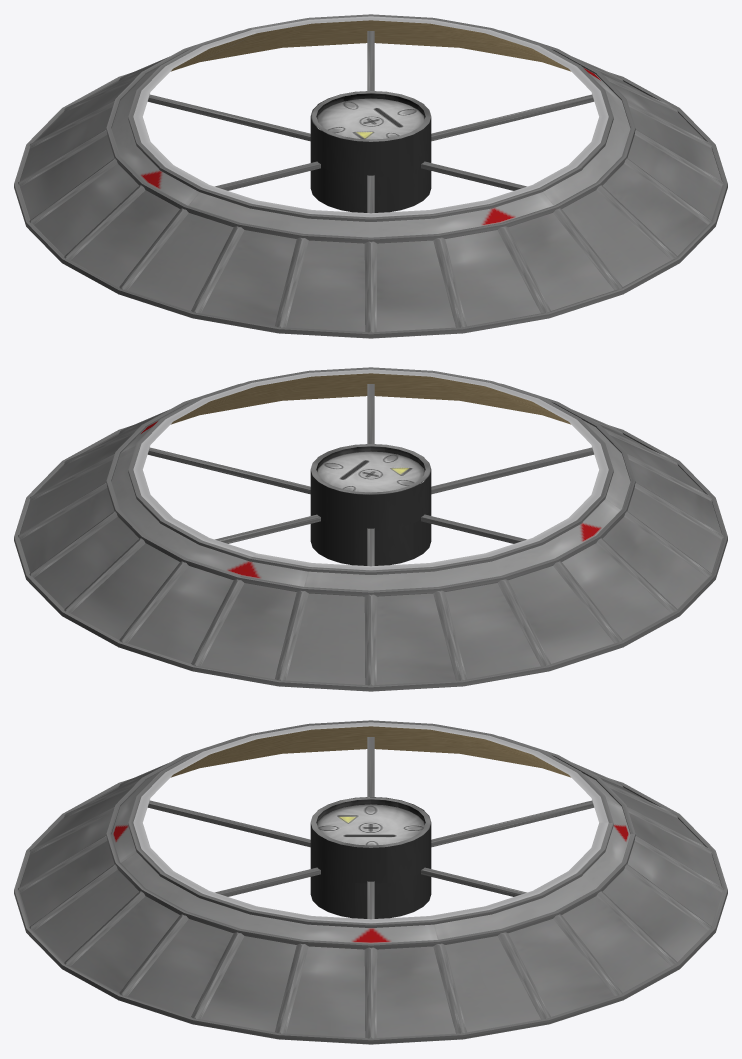
3 views of the same model, one above another, from view 1: azimuth 30°, elevation 25°; view 2: azimuth 150°, elevation 25°; view 3: azimuth 270°, elevation 25° (orthographic).
Parts seen in each view (by area): view 1: Adapter25, Cylinder049, Tube003, Tube002, Tube001, Cylinder046, Box110, Box111, Bracer012, Bracer010, Bracer011, Bracer009 (+10 smaller); view 2: Adapter25, Cylinder049, Tube003, Tube002, Tube001, Cylinder046, Box111, Box109, Bracer004, Bracer002, Bracer003, Bracer005 (+10 smaller); view 3: Adapter25, Cylinder049, Tube003, Tube002, Tube001, Cylinder046, Box110, Box109, Bracer020, Bracer018, Bracer019, Bracer017 (+10 smaller).
Boxes of the visible parts, box(x1,y1,x2,y2) form: Adapter25: box(14, 16, 727, 338); Cylinder049: box(310, 91, 431, 177); Tube003: box(14, 72, 727, 338); Tube002: box(106, 30, 635, 243); Tube001: box(128, 14, 613, 221); Cylinder046: box(310, 153, 431, 212); Box110: box(147, 94, 526, 190); Box111: box(215, 94, 594, 190); Bracer012: box(433, 237, 466, 327); Bracer010: box(275, 237, 308, 327); Bracer011: box(364, 241, 377, 332); Bracer009: box(191, 226, 244, 313); Adapter25: box(14, 369, 727, 691); Cylinder049: box(310, 444, 431, 530); Tube003: box(14, 425, 727, 691); Tube002: box(106, 383, 635, 596); Tube001: box(128, 367, 613, 574); Cylinder046: box(310, 506, 431, 565); Box111: box(147, 447, 526, 543); Box109: box(215, 447, 594, 543); Bracer004: box(433, 590, 466, 680); Bracer002: box(275, 590, 308, 680); Bracer003: box(364, 594, 377, 685); Bracer005: box(497, 579, 550, 666); Adapter25: box(14, 722, 727, 1044); Cylinder049: box(310, 797, 431, 883); Tube003: box(14, 778, 727, 1044); Tube002: box(106, 736, 635, 949); Tube001: box(128, 720, 613, 927); Cylinder046: box(310, 859, 431, 918); Box110: box(215, 800, 594, 896); Box109: box(147, 800, 526, 896); Bracer020: box(433, 943, 466, 1033); Bracer018: box(275, 943, 308, 1033); Bracer019: box(364, 947, 377, 1038); Bracer017: box(191, 932, 244, 1019).
Size of what is drawn, in the model's own units: 3.75 by 0.4158 by 3.75.
